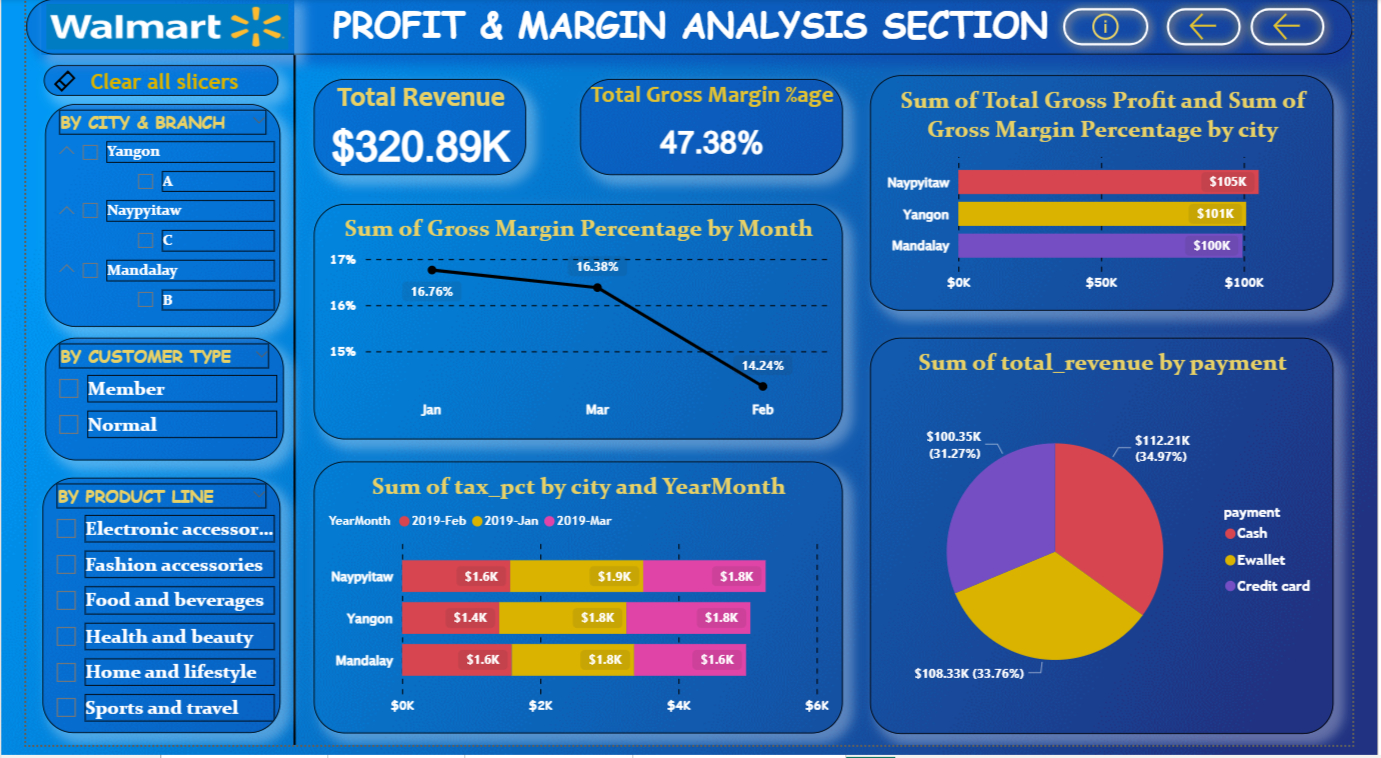

What the dashboard file says about the page in this screenshot:
{"tool":"powerbi","page":{"name":"ProFit & Margin Section","canvas":[1280,720],"ordinal":3},"visuals":[{"type":"textbox","title":"PROFIT & MARGIN ANALYSIS SECTION ","box":[0,0,1280,53.8],"z":0},{"type":"image","box":[15,0,243.8,53.8],"z":1000},{"type":"shape","box":[245.7,54.3,25.7,665.7],"z":2000},{"type":"lineChart","fields":{"Y":["Sum(salesdatawalmart sales.Gross Margin Percentage)"],"Category":["salesdatawalmart sales.Month"]},"box":[277.5,197.5,510,227.5],"z":3000},{"type":"barChart","fields":{"Category":["salesdatawalmart sales.city"],"Y":["Sum(salesdatawalmart sales.Total Gross Profit)"]},"box":[813.8,73.8,447.5,227.5],"z":4000},{"type":"card","title":"Total Gross Margin %age","fields":{"Values":["Sum(salesdatawalmart sales.Gross Margin Percentage)"]},"box":[533.8,77.5,253.8,92.5],"z":5000},{"type":"card","title":"Total Revenue ","fields":{"Values":["Sum(salesdatawalmart sales.total_revenue)"]},"box":[277.5,77.5,205,92.5],"z":6000},{"type":"barChart","fields":{"Y":["Sum(salesdatawalmart sales.tax_pct)"],"Category":["salesdatawalmart sales.city"],"Series":["salesdatawalmart sales.YearMonth"]},"box":[277.5,446.2,510,262.5],"z":7000},{"type":"pieChart","fields":{"Category":["salesdatawalmart sales.payment"],"Y":["Sum(salesdatawalmart sales.total)"]},"box":[813.8,326.2,447.5,382.5],"z":8000},{"type":"actionButton","box":[17.1,63.6,226.1,29.3],"z":9000},{"type":"slicer","fields":{"Values":["salesdatawalmart sales.city","salesdatawalmart sales.branch"]},"box":[18.3,101.5,227.4,215.1],"z":10000},{"type":"slicer","fields":{"Values":["salesdatawalmart sales.customer_type"]},"box":[18.6,327.1,230,118.6],"z":11000},{"type":"slicer","title":"By","fields":{"Values":["salesdatawalmart sales.product_line"]},"box":[15.2,462.4,229.9,246.4],"z":12000},{"type":"actionButton","box":[991.4,0,100.2,53.8],"z":13000},{"type":"actionButton","box":[1091.6,0,89.2,53.8],"z":14000},{"type":"actionButton","box":[1172.3,0,89.2,53.8],"z":15000}]}

Visuals, with their boxes in screenshot pixels (x1, y1, x2, y2), scaled from the page's 1280x720 canvas onto the 1381x758 screenshot:
"PROFIT & MARGIN ANALYSIS SECTION " textbox: <region>0, 0, 1380, 57</region>
image: <region>16, 0, 279, 57</region>
shape: <region>265, 57, 293, 757</region>
lineChart - Sum(salesdatawalmart sales.Gross Margin Percentage) x salesdatawalmart sales.Month: <region>299, 208, 850, 447</region>
barChart - salesdatawalmart sales.city x Sum(salesdatawalmart sales.Total Gross Profit): <region>878, 78, 1361, 317</region>
"Total Gross Margin %age" card: <region>576, 82, 850, 179</region>
"Total Revenue " card: <region>299, 82, 521, 179</region>
barChart - Sum(salesdatawalmart sales.tax_pct) x salesdatawalmart sales.city: <region>299, 470, 850, 746</region>
pieChart - salesdatawalmart sales.payment x Sum(salesdatawalmart sales.total): <region>878, 343, 1361, 746</region>
actionButton: <region>18, 67, 262, 98</region>
slicer - salesdatawalmart sales.city x salesdatawalmart sales.branch: <region>20, 107, 265, 333</region>
slicer - salesdatawalmart sales.customer_type: <region>20, 344, 268, 469</region>
"By" slicer: <region>16, 487, 264, 746</region>
actionButton: <region>1070, 0, 1178, 57</region>
actionButton: <region>1178, 0, 1274, 57</region>
actionButton: <region>1265, 0, 1361, 57</region>
